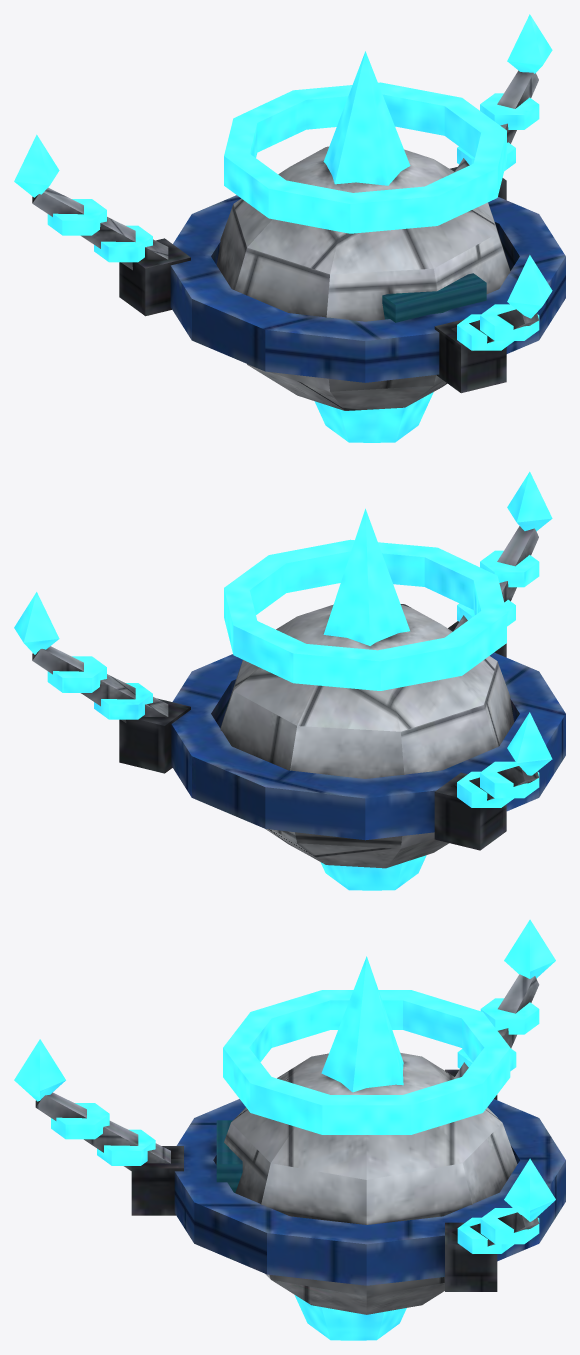
File: u_arcdrone2_w.glb
The picture shows the model from 3 angles, top to bottom: view 1: azimuth 30°, elevation 25°; view 2: azimuth 150°, elevation 25°; view 3: azimuth 270°, elevation 25°; orthographic projection.
Visible parts, largest first — view 1: u_arcdrone2_w; view 2: u_arcdrone2_w; view 3: u_arcdrone2_w.
Part boxes in pixels (bbox=[...]): u_arcdrone2_w: bbox=[14, 14, 565, 442]; u_arcdrone2_w: bbox=[14, 471, 565, 890]; u_arcdrone2_w: bbox=[14, 919, 565, 1340].
Bounding box in the file's own units: 1.15 × 0.793 × 1.03.
1 material, 1 textured.
